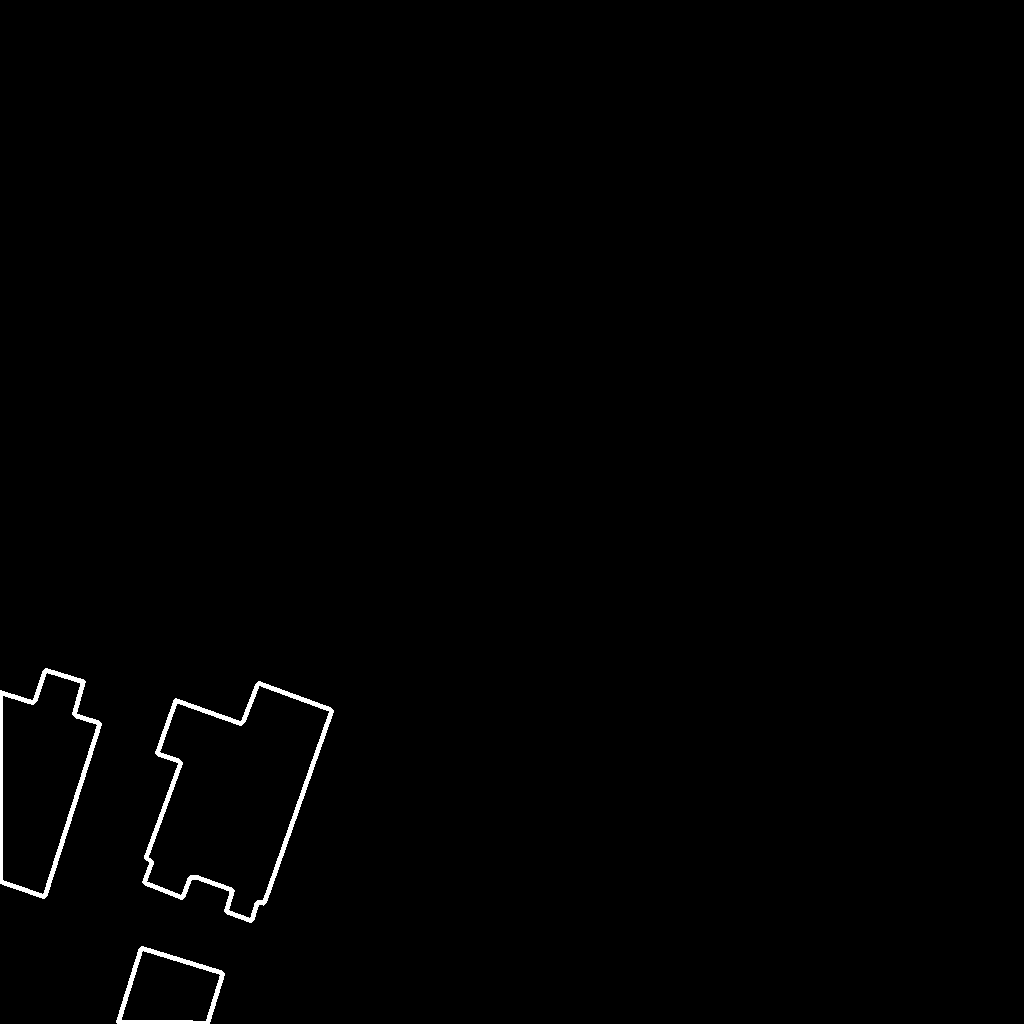building: (144, 683, 333, 922), (0, 670, 101, 898), (118, 948, 224, 1024)
